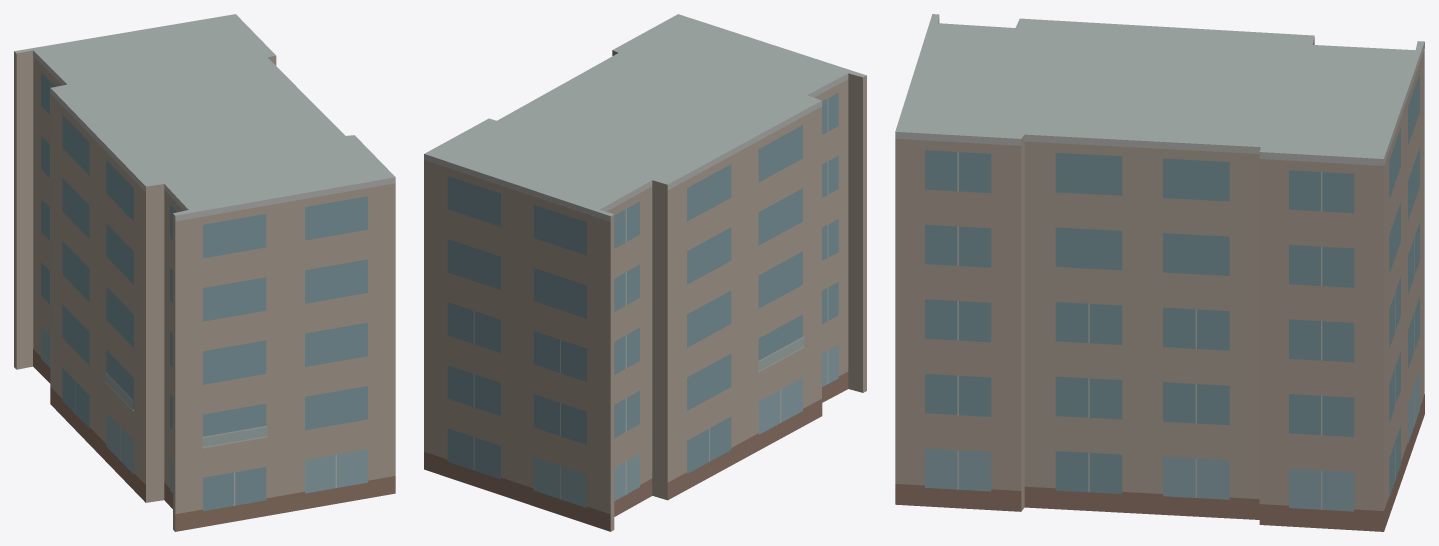
Rendered from survey-upis-32488944.glb.
3 renders of one model, left to right at view 1: azimuth 30°, elevation 25°; view 2: azimuth 150°, elevation 25°; view 3: azimuth 270°, elevation 25°, orthographic. The views are drawn at different scales.
Parts seen in each view (by area): view 1: survey-upis-32488944.tmp; view 2: survey-upis-32488944.tmp; view 3: survey-upis-32488944.tmp.
Part boxes in pixels (x1,y1,x2,y2): survey-upis-32488944.tmp: (14,14,395,531); survey-upis-32488944.tmp: (424,14,866,531); survey-upis-32488944.tmp: (895,14,1424,531).
Bounding box in the file's own units: 11.02 × 13.2 × 17.
